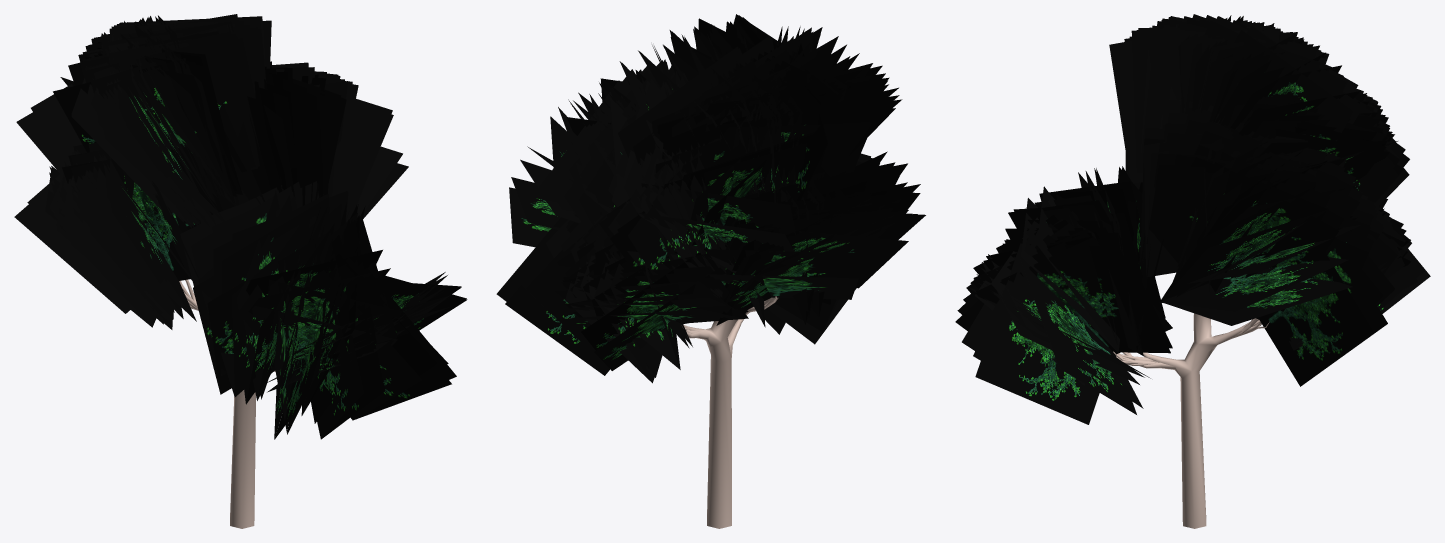
File: tree.glb
The picture shows the model from 3 angles, left to right: view 1: azimuth 30°, elevation 25°; view 2: azimuth 150°, elevation 25°; view 3: azimuth 270°, elevation 25°; orthographic projection. The views are drawn at different scales.
Bounding box in the file's own units: 5.9 × 7.37 × 6.67.
Materials: 2 (1 with a texture image).
